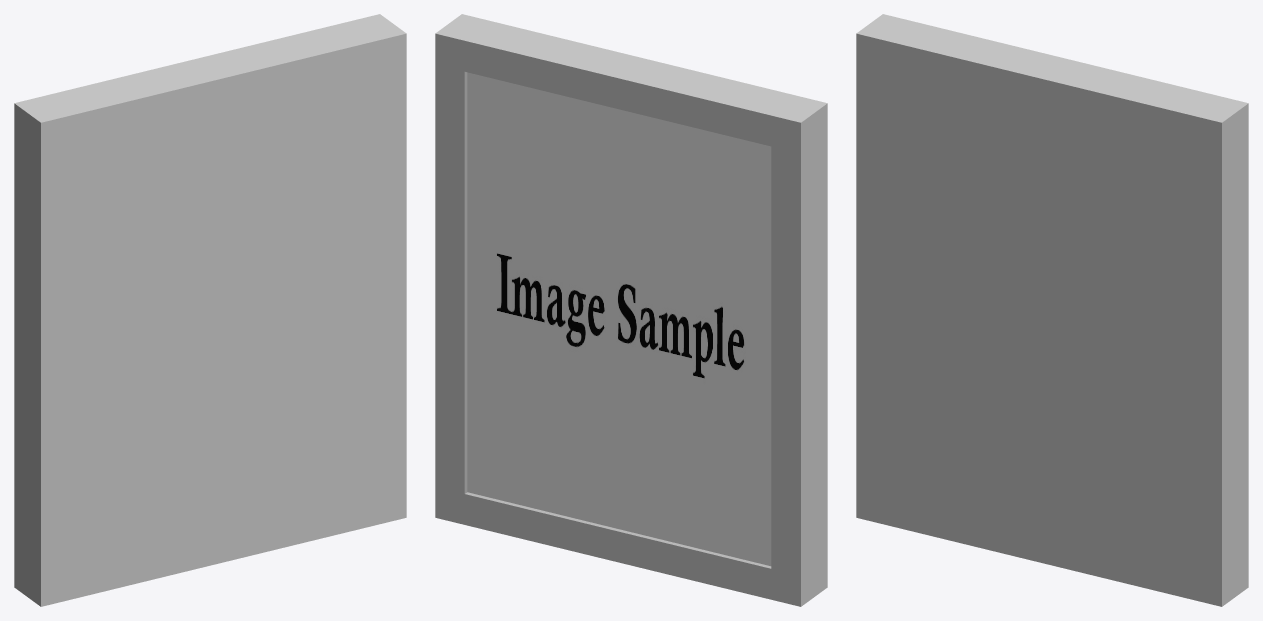
The model's file is frame_var3.fbx.
The picture shows the model from 3 angles, left to right: view 1: azimuth 30°, elevation 25°; view 2: azimuth 150°, elevation 25°; view 3: azimuth 330°, elevation 25°; orthographic projection.
Visible parts, largest first — view 1: Cube.057; view 2: Plane.005, Cube.057; view 3: Cube.057.
Part boxes in pixels (x1=…): Cube.057: x1=14, y1=14, x2=406, y2=606; Plane.005: x1=467, y1=72, x2=771, y2=566; Cube.057: x1=435, y1=14, x2=827, y2=606; Cube.057: x1=856, y1=14, x2=1248, y2=606.
Bounding box in the file's own units: 43.77 × 55.37 × 5.55.
